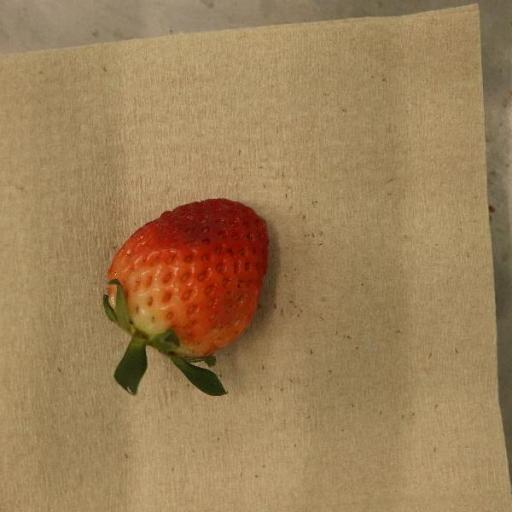Strawberry: (103, 199, 269, 398)
